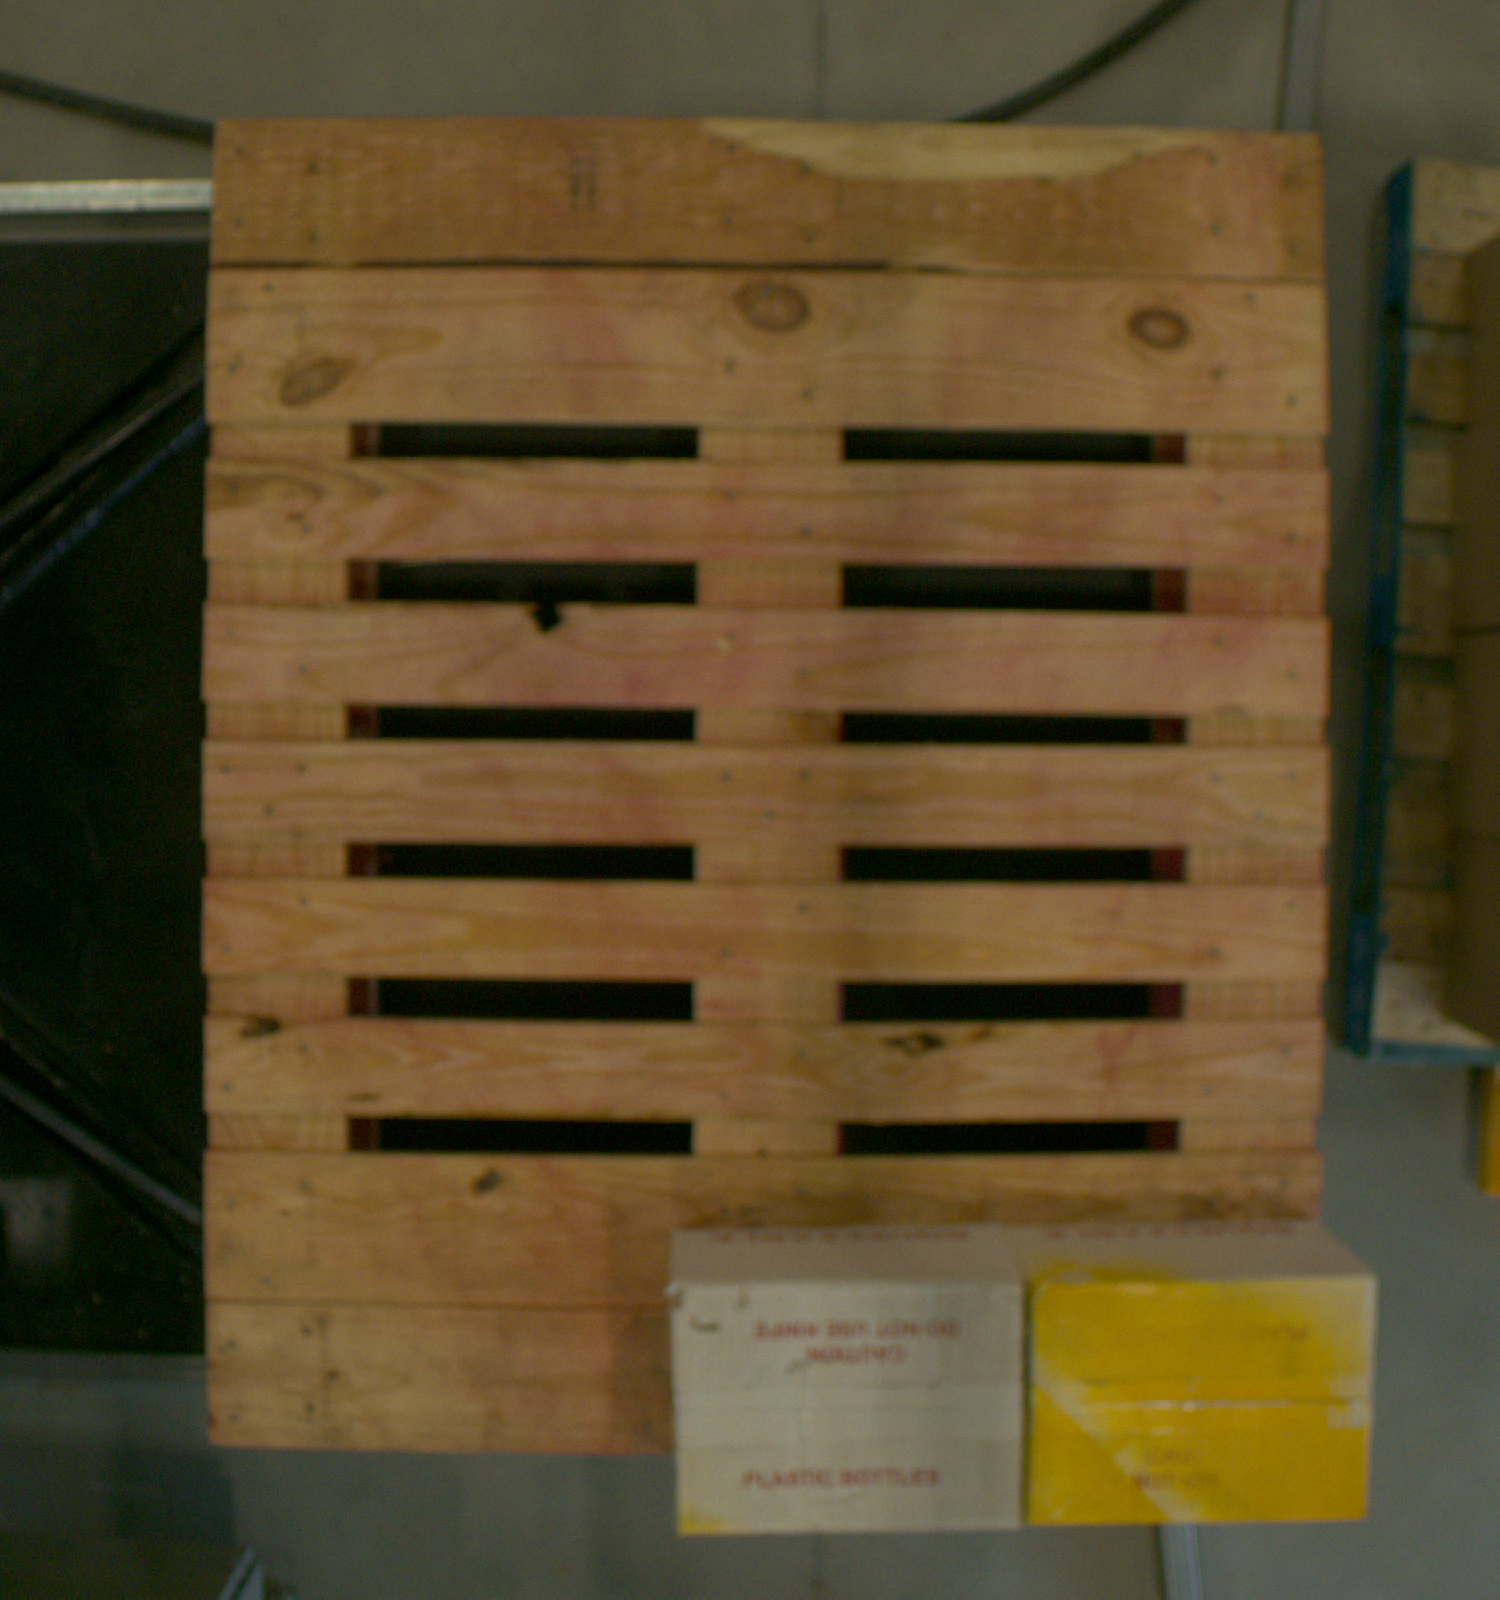box top: (725, 1233, 973, 1584), (1029, 1277, 1377, 1527)
